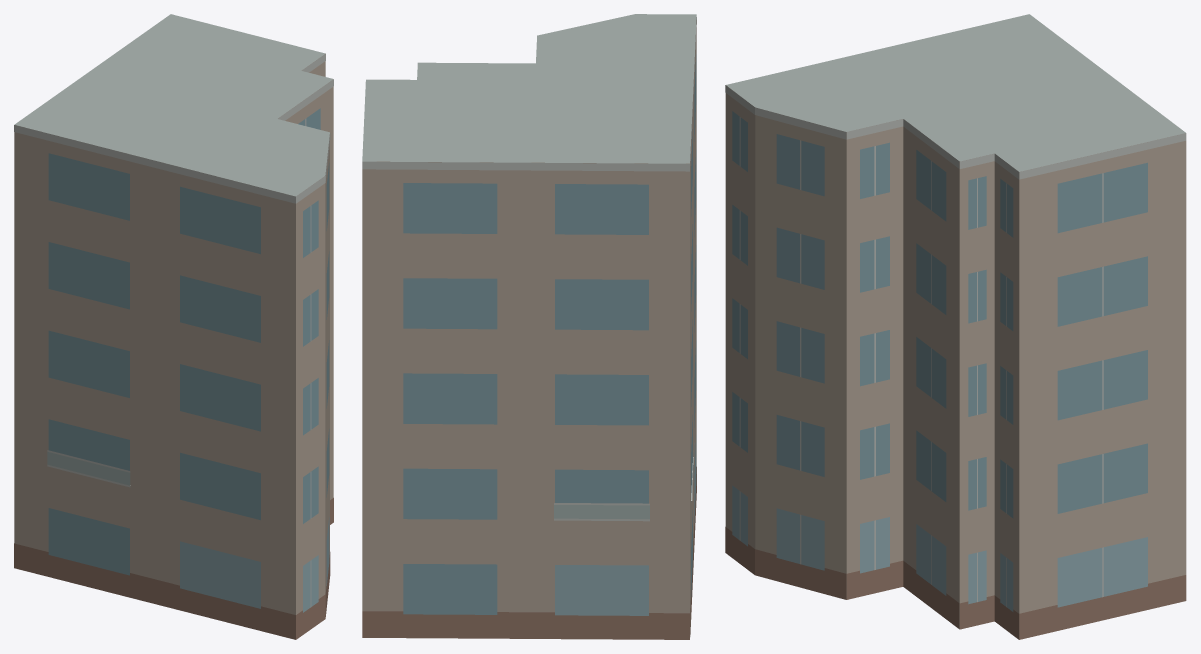
The model's file is survey-upis-33001824.glb.
The picture shows the model from 3 angles, left to right: view 1: azimuth 30°, elevation 25°; view 2: azimuth 150°, elevation 25°; view 3: azimuth 270°, elevation 25°; orthographic projection. The views are drawn at different scales.
Parts seen in each view (by area): view 1: survey-upis-33001824.tmp; view 2: survey-upis-33001824.tmp; view 3: survey-upis-33001824.tmp.
Part boxes in pixels (left/top/right/bottom): survey-upis-33001824.tmp: left=14, top=14, right=333, bottom=639; survey-upis-33001824.tmp: left=362, top=14, right=696, bottom=639; survey-upis-33001824.tmp: left=725, top=14, right=1186, bottom=639.
Size of the model in its own units: 10.8 by 14.9 by 13.31.
